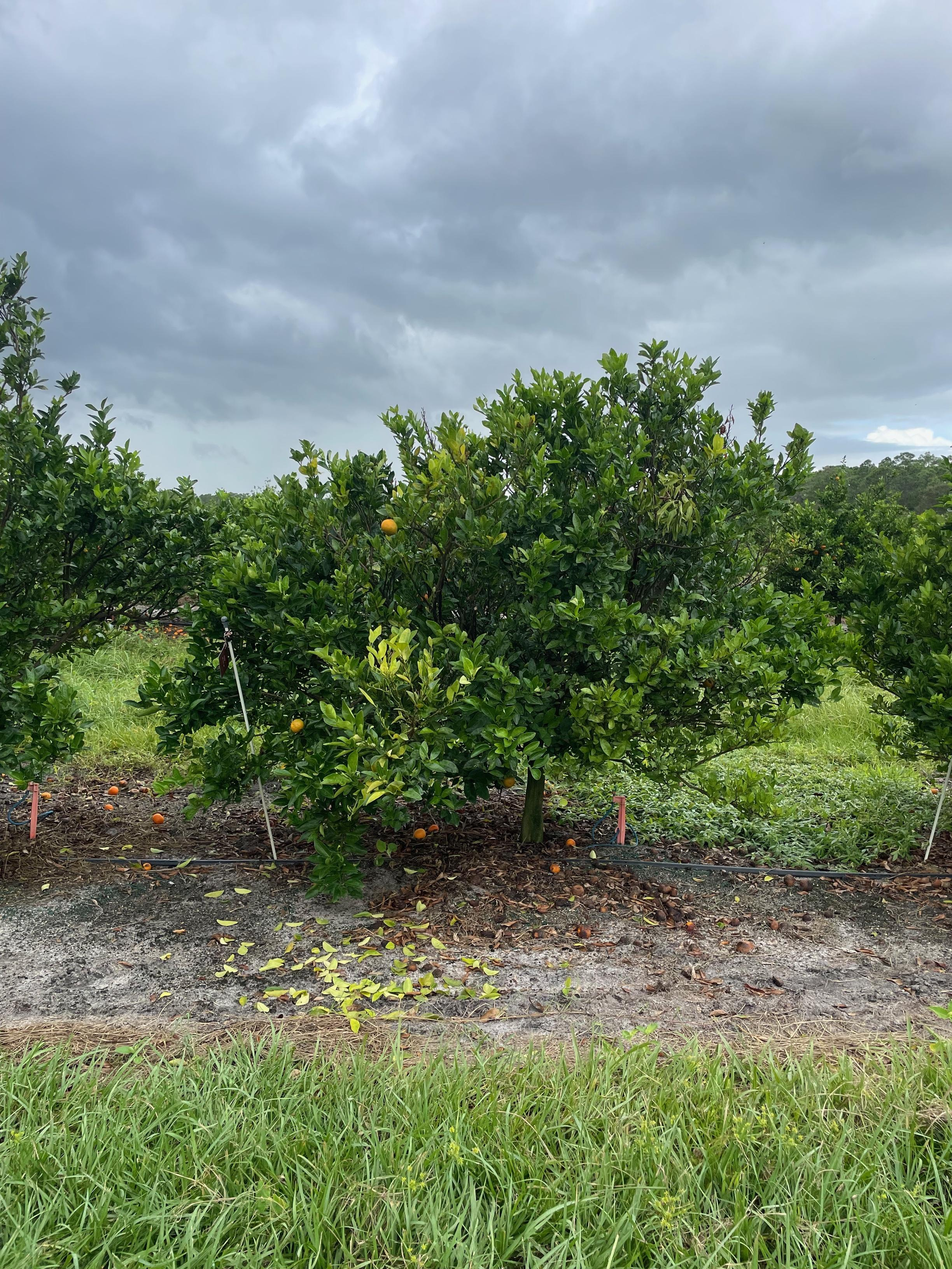fruit_on_ground: (378, 516, 400, 537), (287, 716, 307, 735), (500, 774, 517, 790)
fruit_on_tree: (734, 937, 755, 954), (411, 826, 428, 841), (150, 810, 166, 825), (577, 925, 593, 939), (782, 874, 797, 888), (426, 821, 441, 834), (656, 883, 672, 895), (564, 836, 578, 849), (548, 860, 562, 873), (768, 919, 782, 931), (683, 920, 695, 932), (40, 789, 52, 801), (107, 784, 119, 796), (102, 801, 115, 812), (45, 775, 55, 783)
